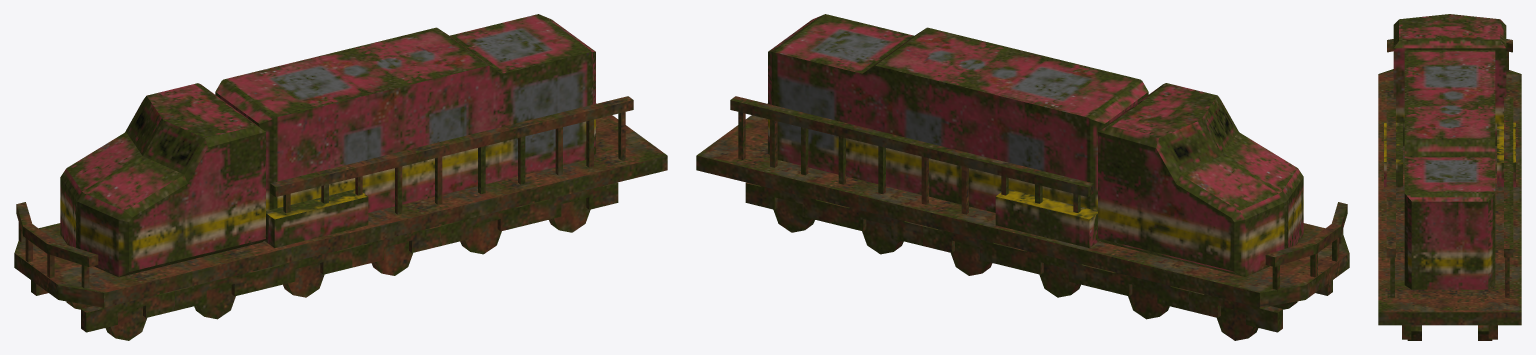
Rendered from TrainEngine.fbx.
The picture shows the model from 3 angles, left to right: view 1: azimuth 30°, elevation 25°; view 2: azimuth 150°, elevation 25°; view 3: azimuth 270°, elevation 25°; orthographic projection. The views are drawn at different scales.
Visible parts, largest first — view 1: TrainEngine; view 2: TrainEngine; view 3: TrainEngine.
Part boxes in pixels (x1,y1,x2,y2): TrainEngine: [14, 14, 667, 340]; TrainEngine: [696, 14, 1349, 340]; TrainEngine: [1378, 14, 1521, 340].
Size of the model in its own units: 6293 by 1924 by 1525.
Materials: 1 (1 with a texture image).
